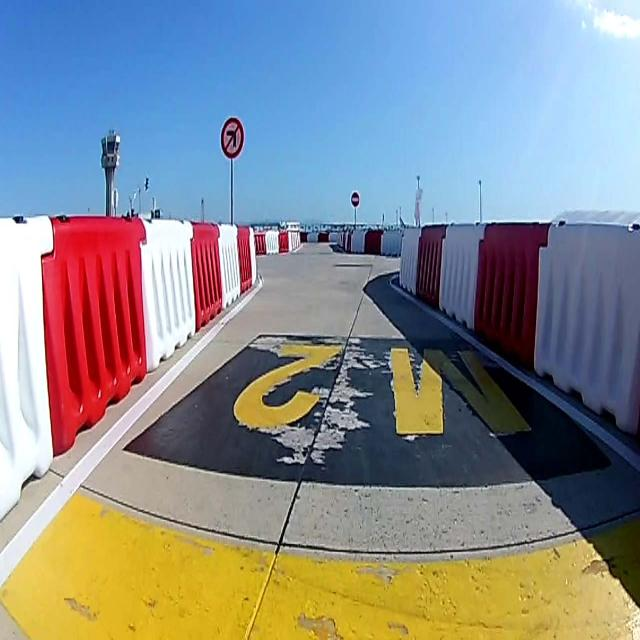girisyok: (350, 191, 360, 207)
soladonulmez: (220, 117, 244, 159)
